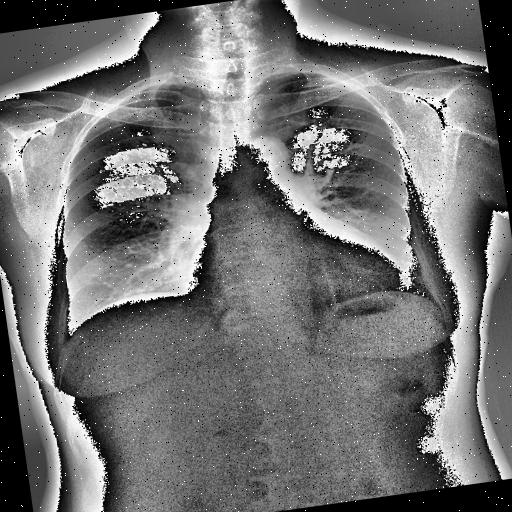11- Pleural thickening: (137, 82, 184, 94)
3- Cardiomegaly: (178, 220, 409, 335), (182, 224, 406, 323), (181, 224, 406, 318)
